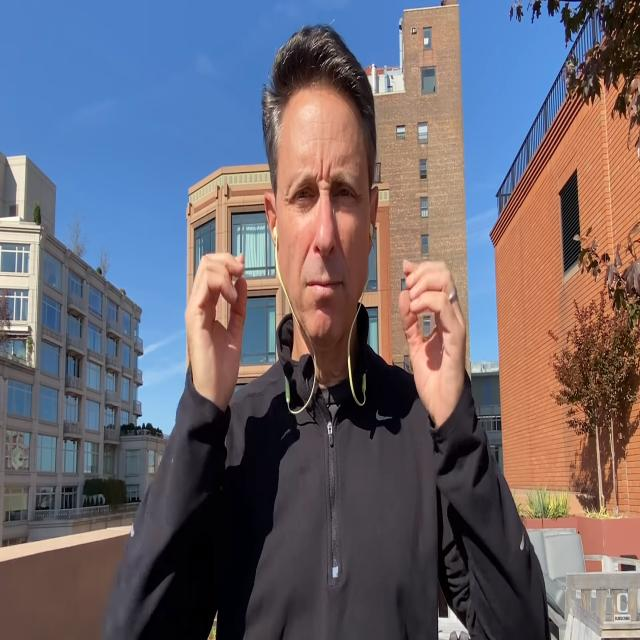Neckband: (273, 222, 376, 415)
